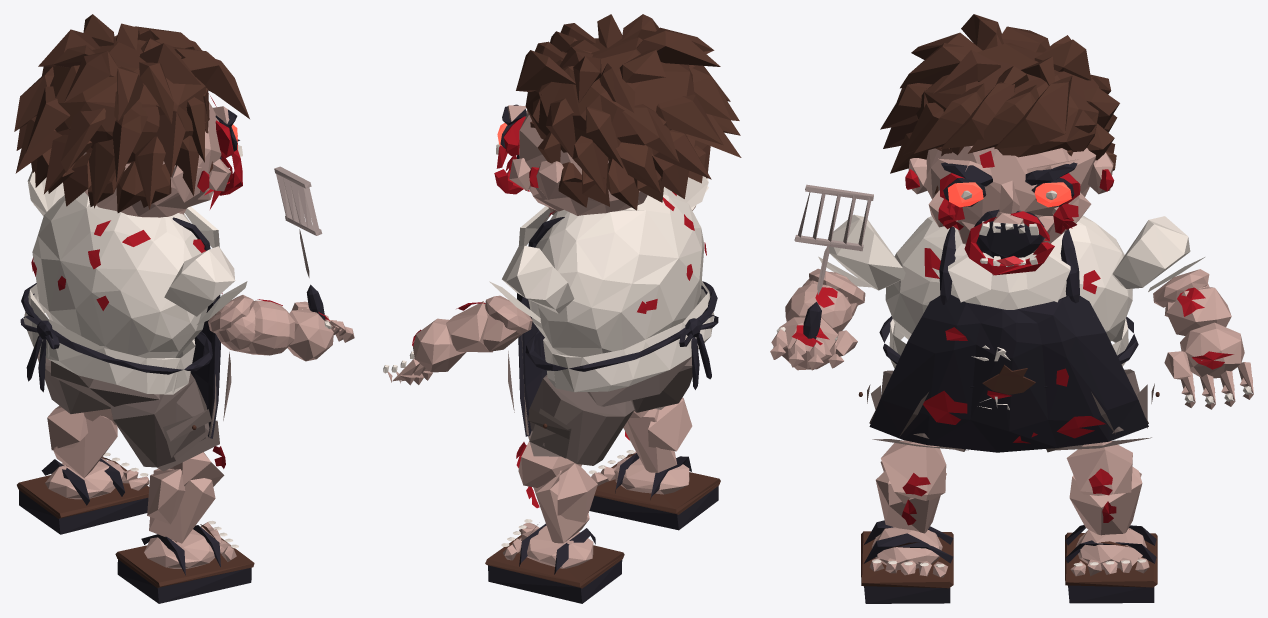
File: inf.bbq-dad.lod1.glb
The picture shows the model from 3 angles, left to right: view 1: azimuth 30°, elevation 25°; view 2: azimuth 150°, elevation 25°; view 3: azimuth 270°, elevation 25°; orthographic projection. The views are drawn at different scales.
Parts seen in each view (by area): view 1: head, torso, footR, footL, legR, shinR, handR, armR, shinL, foreArmR, hip, legL (+1 smaller); view 2: head, torso, footL, footR, legL, shinL, armL, shinR, handL, foreArmL, hip, legR (+1 smaller); view 3: torso, head, footR, footL, handR, shinL, shinR, handL, armL, armR, foreArmL, foreArmR (+2 smaller).
Part boxes in pixels (bbox=[...]): head: bbox=[14, 14, 249, 217]; torso: bbox=[20, 192, 231, 438]; footR: bbox=[115, 520, 254, 603]; footL: bbox=[17, 452, 149, 534]; legR: bbox=[110, 373, 219, 471]; shinR: bbox=[147, 446, 225, 543]; handR: bbox=[274, 166, 354, 361]; armR: bbox=[164, 246, 254, 333]; shinL: bbox=[47, 405, 117, 477]; foreArmR: bbox=[214, 299, 294, 355]; hip: bbox=[51, 361, 159, 407]; legL: bbox=[33, 346, 110, 413]; head: bbox=[494, 14, 741, 215]; torso: bbox=[508, 187, 718, 436]; footL: bbox=[485, 519, 624, 603]; footR: bbox=[588, 450, 720, 530]; legL: bbox=[527, 374, 634, 465]; shinL: bbox=[516, 441, 597, 543]; armL: bbox=[485, 245, 574, 334]; shinR: bbox=[623, 397, 692, 472]; handL: bbox=[383, 318, 466, 385]; foreArmL: bbox=[446, 301, 521, 352]; hip: bbox=[587, 357, 691, 406]; legR: bbox=[632, 357, 692, 412]; torso: bbox=[869, 215, 1148, 452]; head: bbox=[880, 14, 1119, 275]; footR: bbox=[861, 520, 953, 603]; footL: bbox=[1065, 525, 1157, 603]; handR: bbox=[770, 184, 873, 370]; shinL: bbox=[1066, 441, 1142, 535]; shinR: bbox=[875, 440, 946, 533]; handL: bbox=[1164, 322, 1253, 409]; armL: bbox=[1112, 216, 1209, 307]; armR: bbox=[809, 214, 905, 305]; foreArmL: bbox=[1164, 284, 1231, 335]; foreArmR: bbox=[785, 272, 857, 333].
Bounding box in the file's own units: 0.7331 × 1.59 × 1.3.
